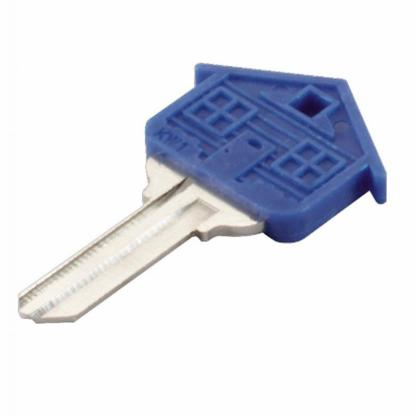key: (15, 55, 393, 345)
